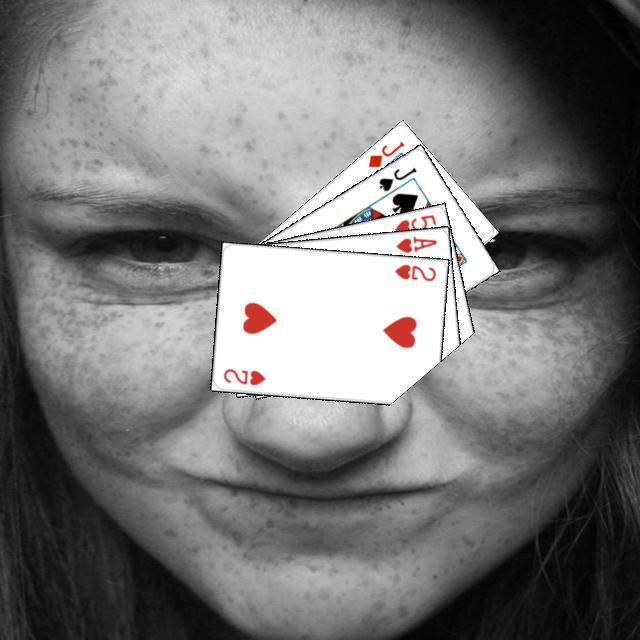2h: (390, 259, 438, 283), (218, 364, 267, 387)
5h: (390, 209, 438, 236)
Ah: (391, 232, 439, 254)
Jd: (363, 136, 406, 169)
Js: (374, 162, 418, 193)
